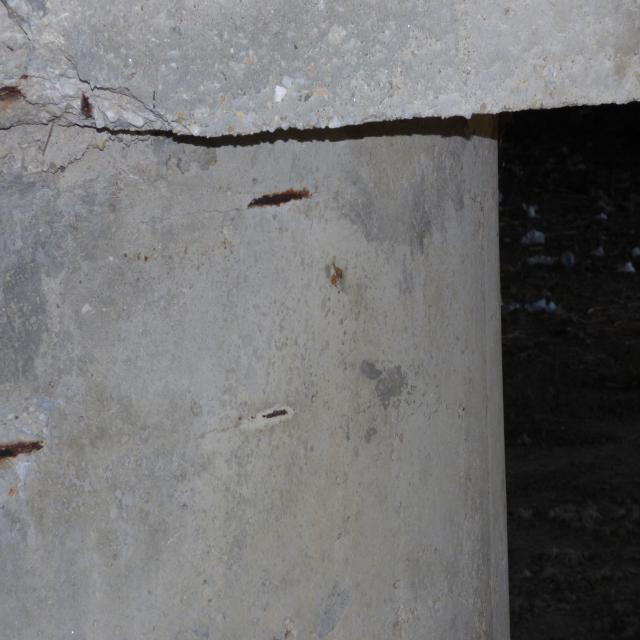corrosion: (238, 174, 323, 218), (0, 423, 45, 469), (0, 68, 33, 112), (75, 90, 99, 120), (257, 408, 294, 422), (327, 264, 345, 290)
